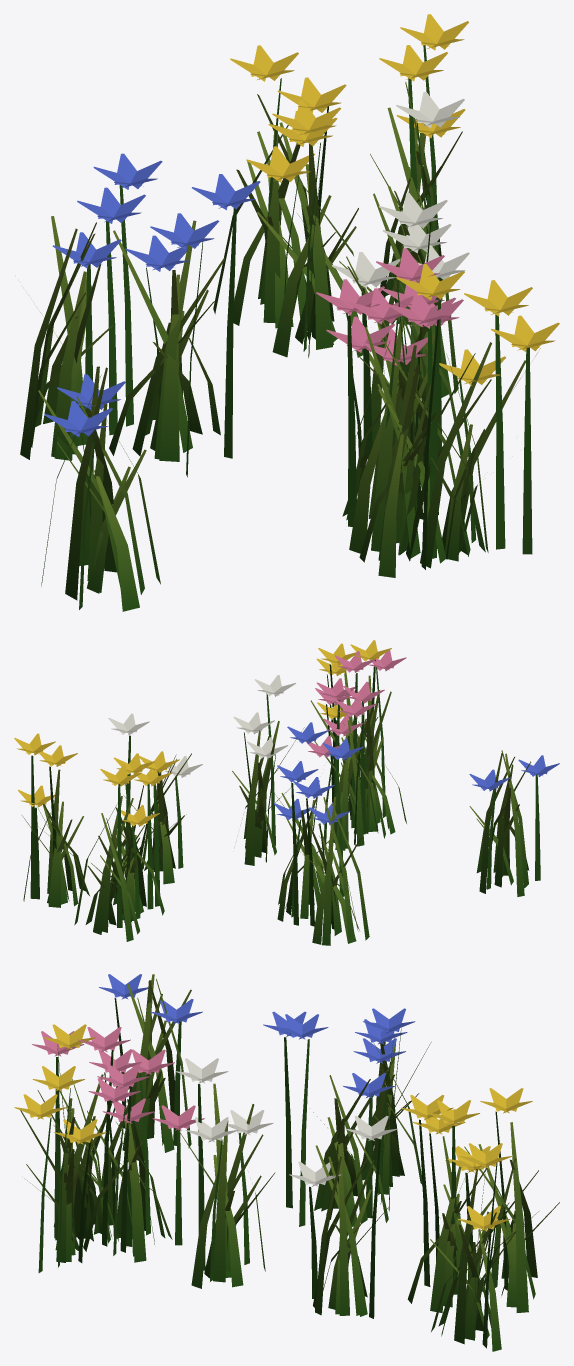
The model's file is wildflowers.glb.
3 renders of one model, top to bottom at view 1: azimuth 30°, elevation 25°; view 2: azimuth 150°, elevation 25°; view 3: azimuth 270°, elevation 25°, orthographic. The views are drawn at different scales.
Parts seen in each view (by area): view 1: Plant-wildflowers; view 2: Plant-wildflowers; view 3: Plant-wildflowers.
Part boxes in pixels (left/top/right/bottom): Plant-wildflowers: left=20, top=14, right=559, bottom=611; Plant-wildflowers: left=14, top=640, right=559, bottom=945; Plant-wildflowers: left=14, top=974, right=559, bottom=1351.
Bounding box in the file's own units: 0.9278 × 0.3791 × 0.8914.
